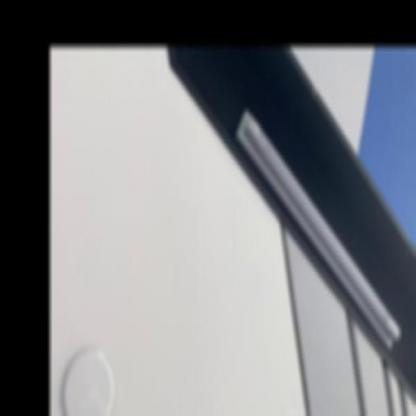light_off: (230, 88, 405, 370)
